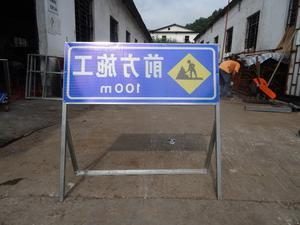sign: (62, 42, 219, 106)
